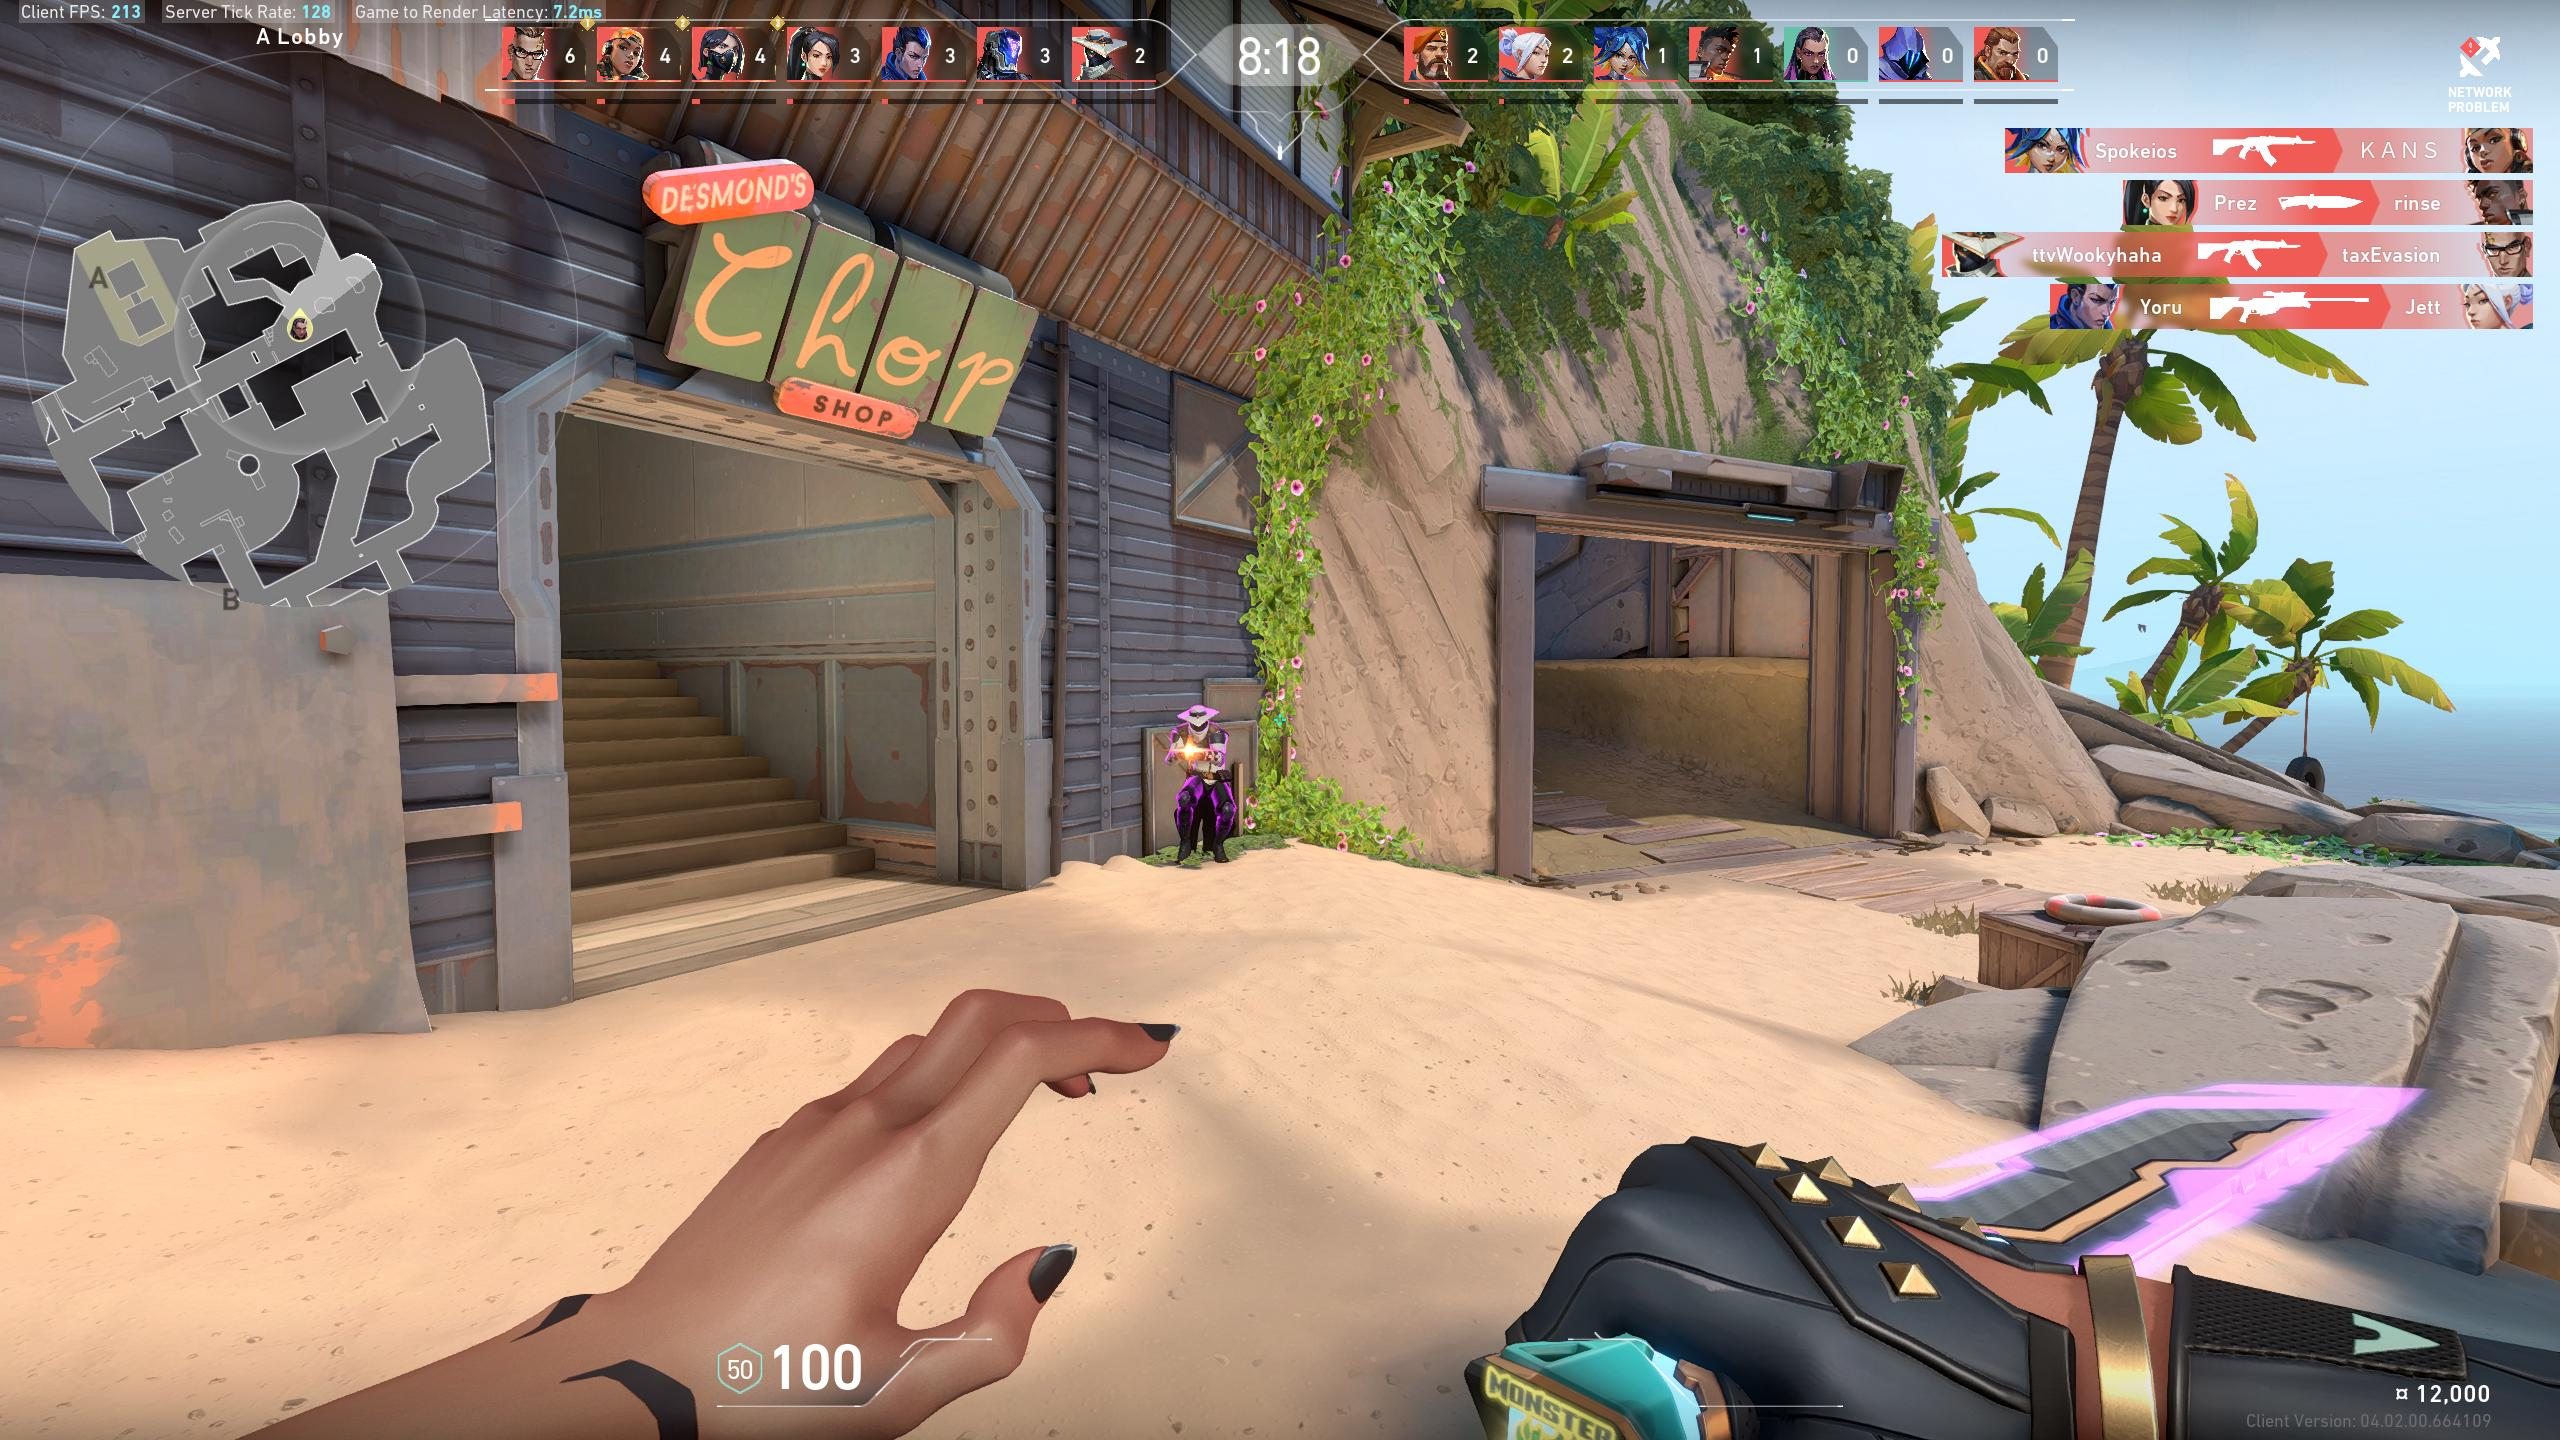enemyBody: (1187, 737, 1218, 779)
enemyHead: (1190, 714, 1206, 731)
